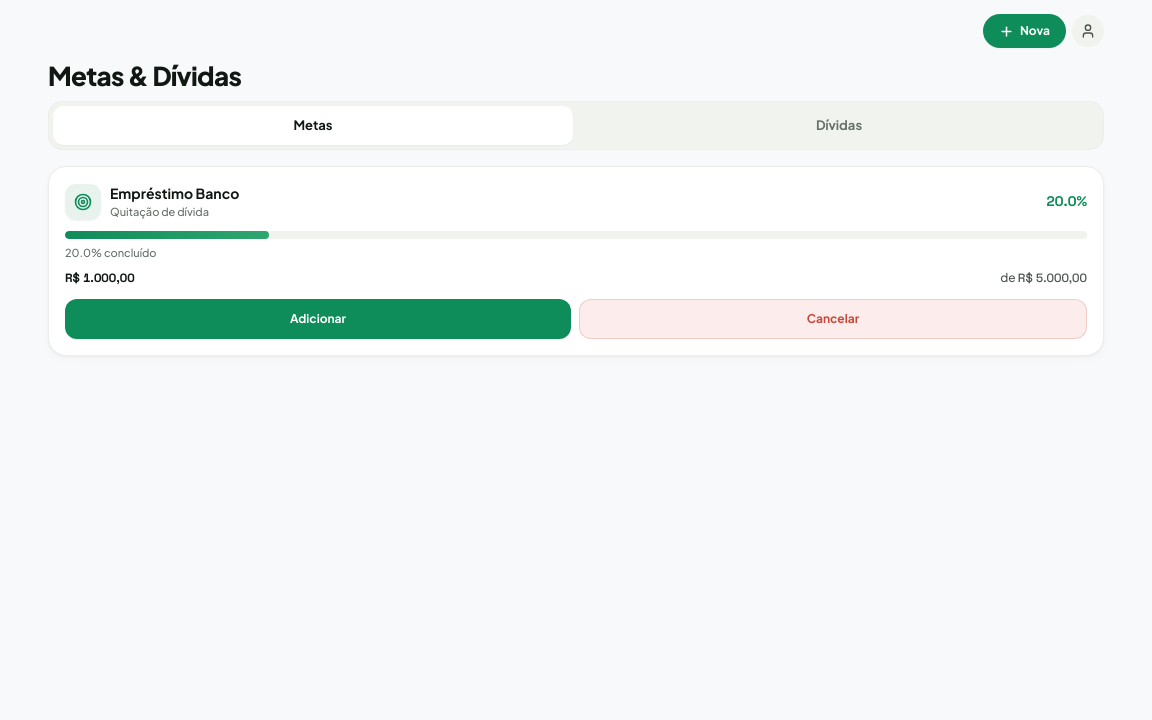
Test case: GoalsPage › debt goals appear in Dívidas tab › clicking Adicionar on debt-goal opens contribution sheet
Click the button "Dívidas" at x=839, y=125, box [579,106,1099,145]
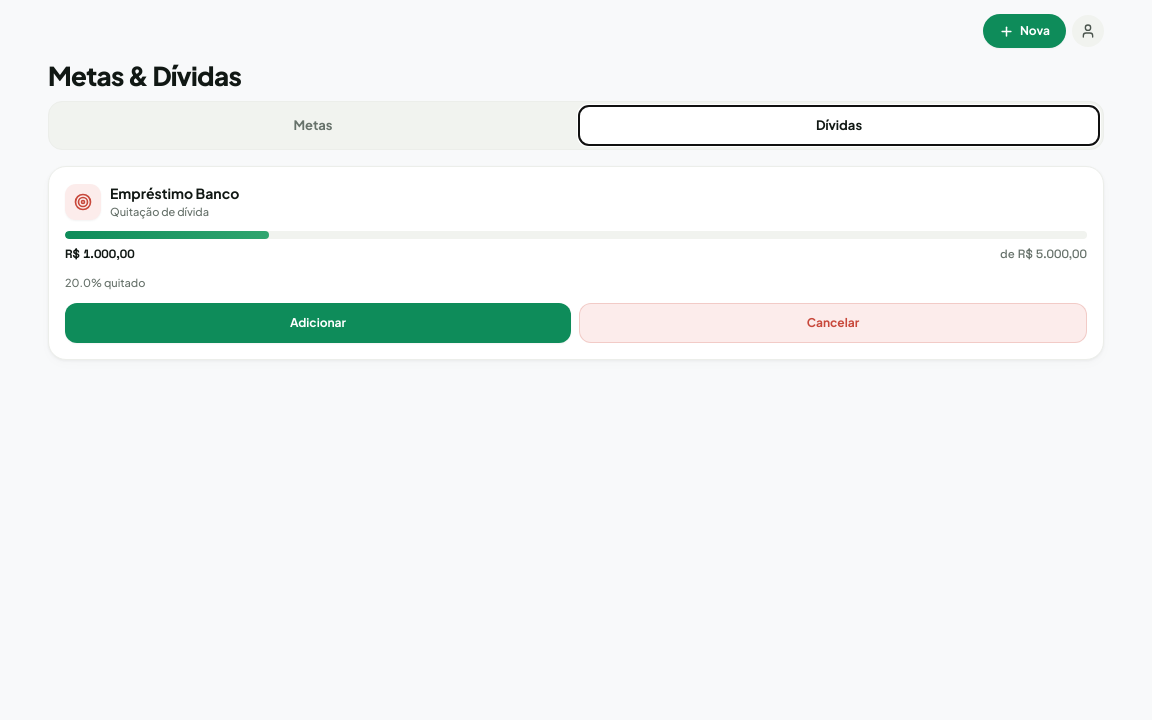
Click the button "Adicionar" at x=318, y=323, box [65,303,571,343]
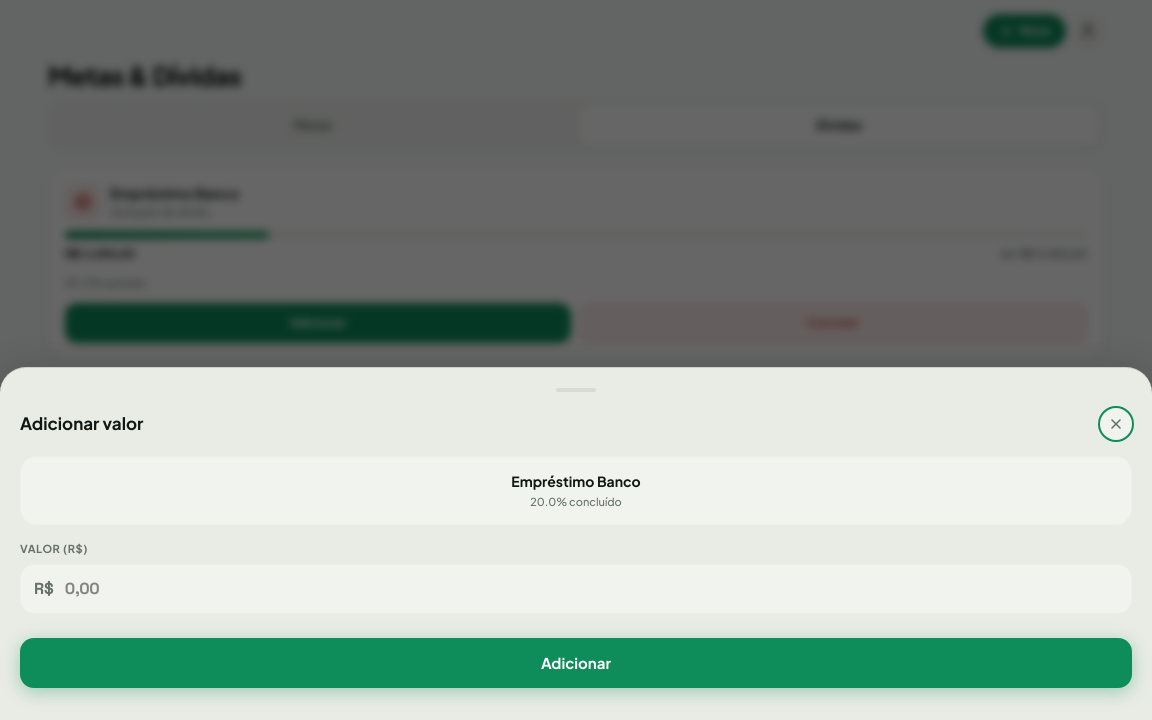
Expected: the heading "Adicionar valor" is shown, [20,412,143,434]
